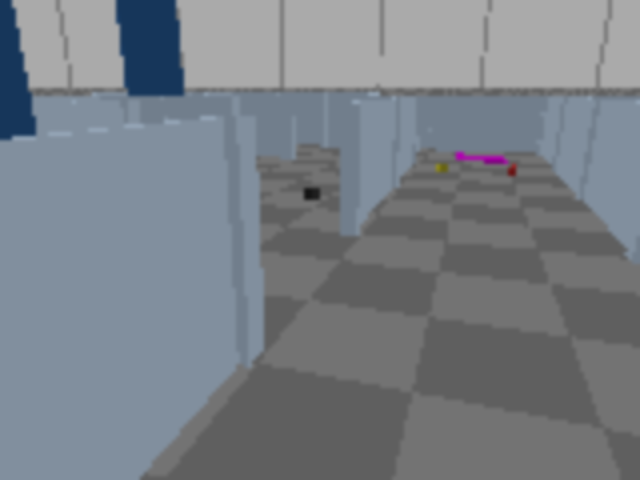goal_zone: (456, 154, 507, 163)
